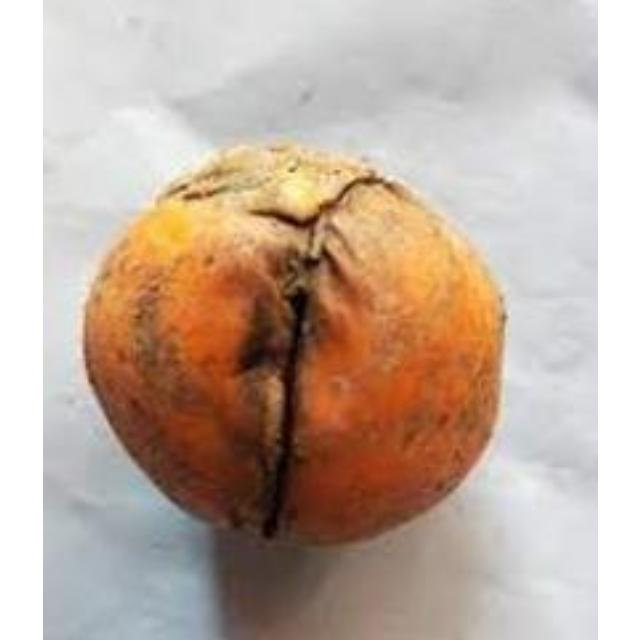damaged: (82, 138, 507, 552)
